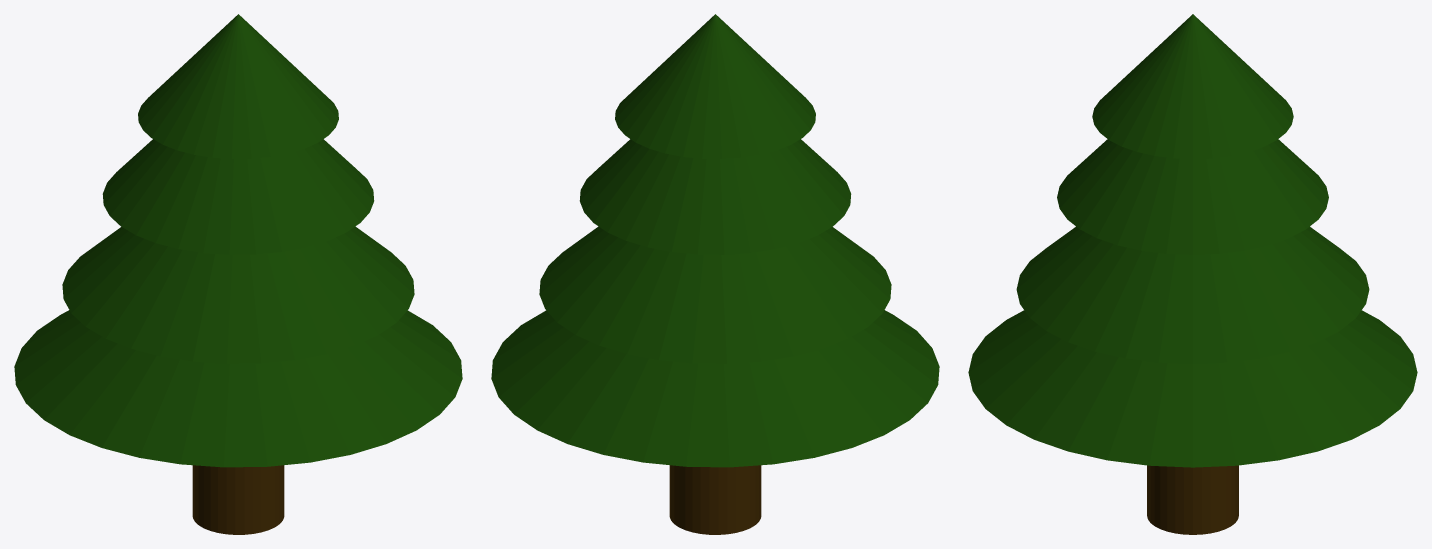
File: tree.fbx
3 views of the same model, side by side, from view 1: azimuth 30°, elevation 25°; view 2: azimuth 150°, elevation 25°; view 3: azimuth 270°, elevation 25° (orthographic).
Visible parts, largest first — view 1: Cone.001, Cone, Cylinder; view 2: Cone.001, Cone, Cylinder; view 3: Cone.001, Cone, Cylinder.
Part boxes in pixels (box(x1,y1,x2,y2)): Cone.001: box(14, 139, 462, 467); Cone: box(138, 14, 338, 158); Cylinder: box(192, 465, 284, 534); Cone.001: box(491, 139, 939, 467); Cone: box(615, 14, 815, 158); Cylinder: box(669, 465, 761, 534); Cone.001: box(968, 139, 1417, 467); Cone: box(1092, 14, 1293, 159); Cylinder: box(1147, 465, 1238, 534).
Size of the model in its own units: 330 by 407 by 330.
